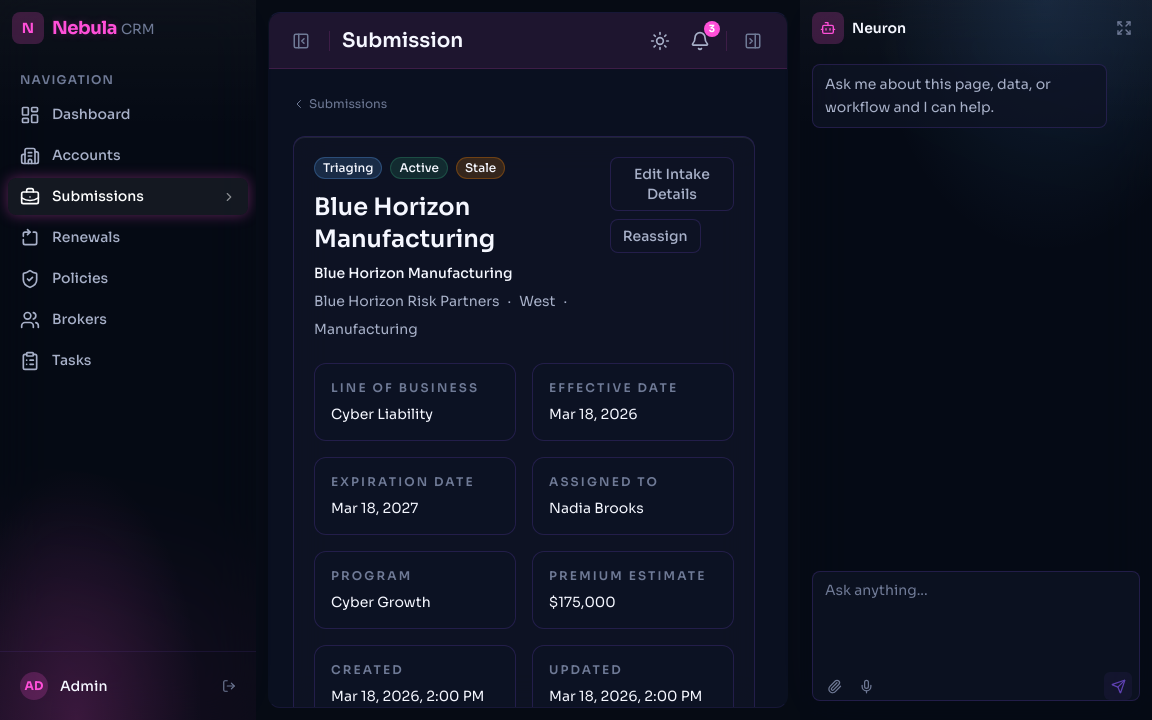
Test case: SubmissionDetailPage integration › supports reassignment against the shared submission state
Expected: the heading "Blue Horizon Manufacturing" is shown, 314,192 -> 495,254
Click the button "Reassign" at (655, 236), box 610,219 -> 700,253
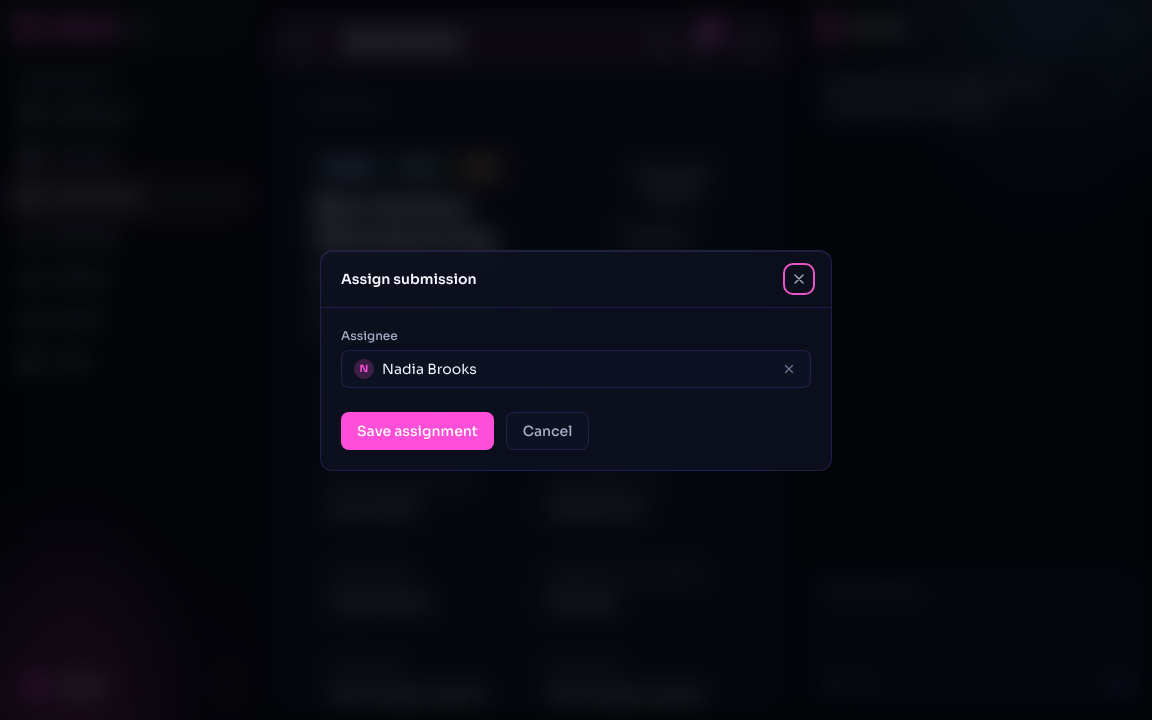
Expected: the dialog "Assign submission" is shown, 320,250 -> 832,470
Click the button named "Remove assignee Nadia Brooks" at (789, 368), box 780,360 -> 798,378
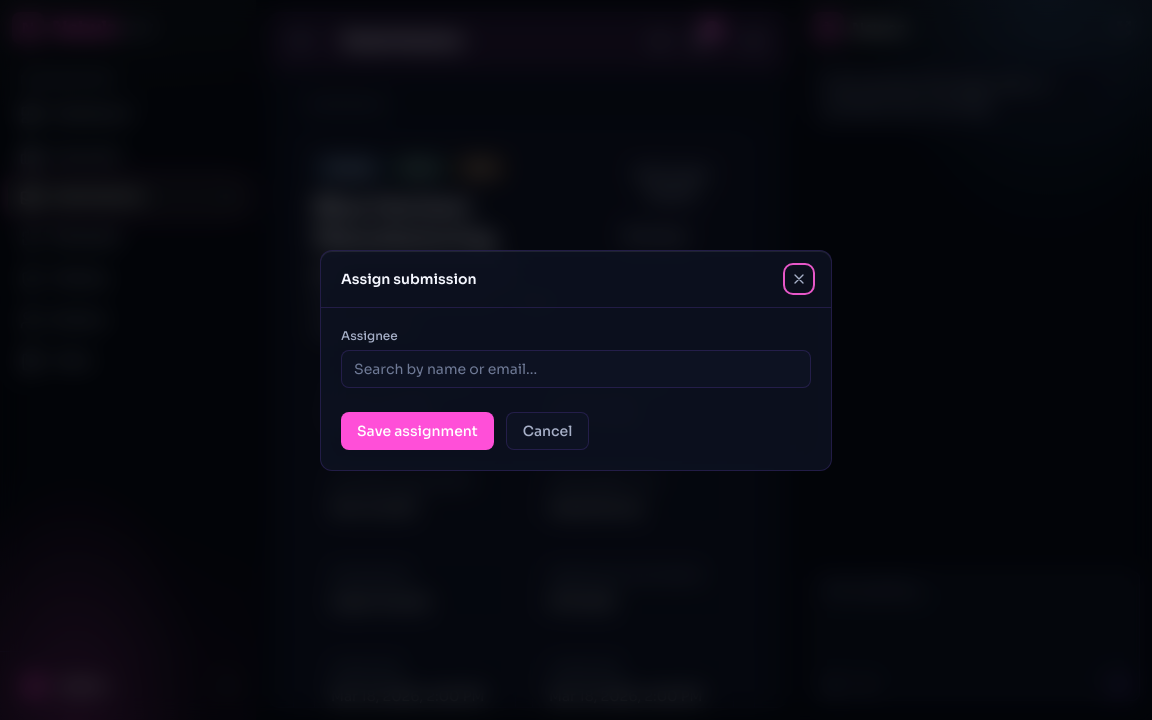
Type "alex" into the dropdown labelled "Assignee" at (576, 368), box 341,350 -> 811,388
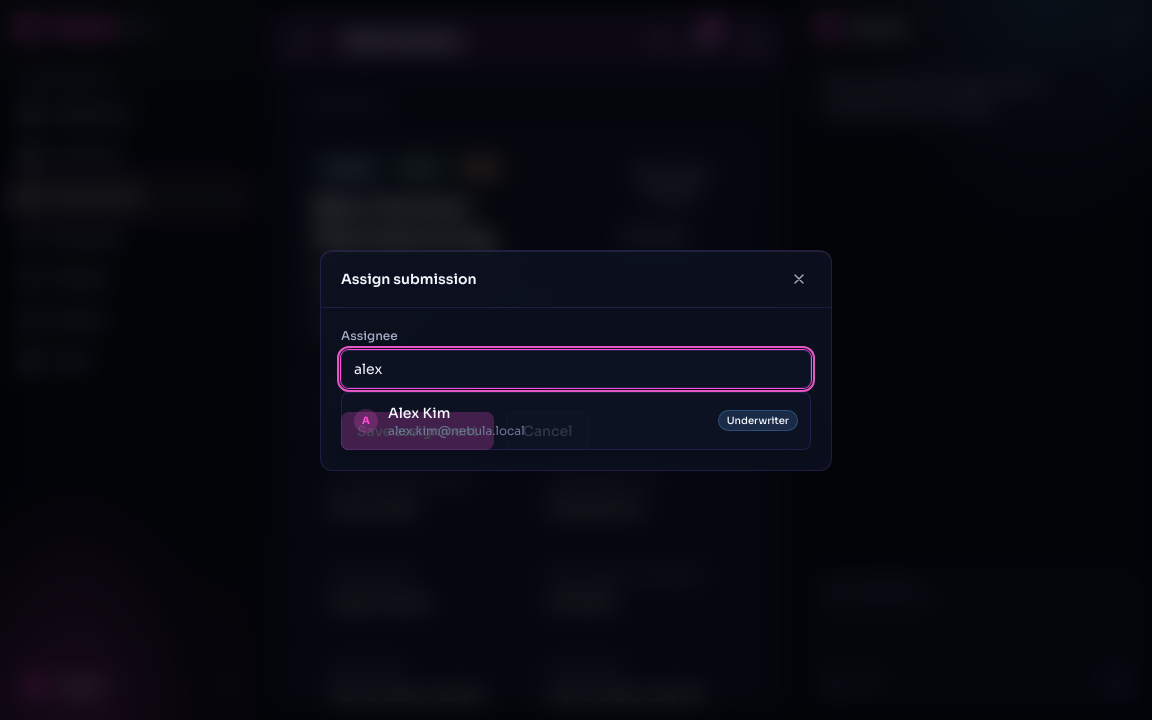
Click the text "Alex Kim" at (419, 412), box 388,404 -> 450,422
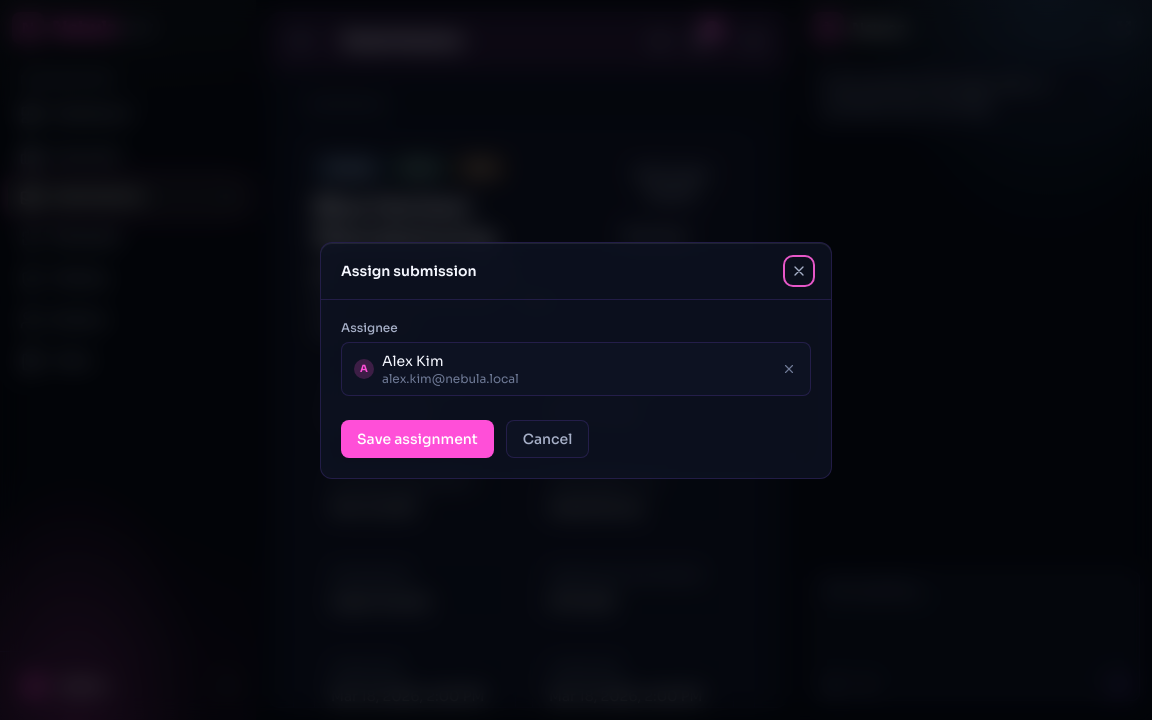
Click the button "Save assignment" at (417, 438), box 341,420 -> 494,458
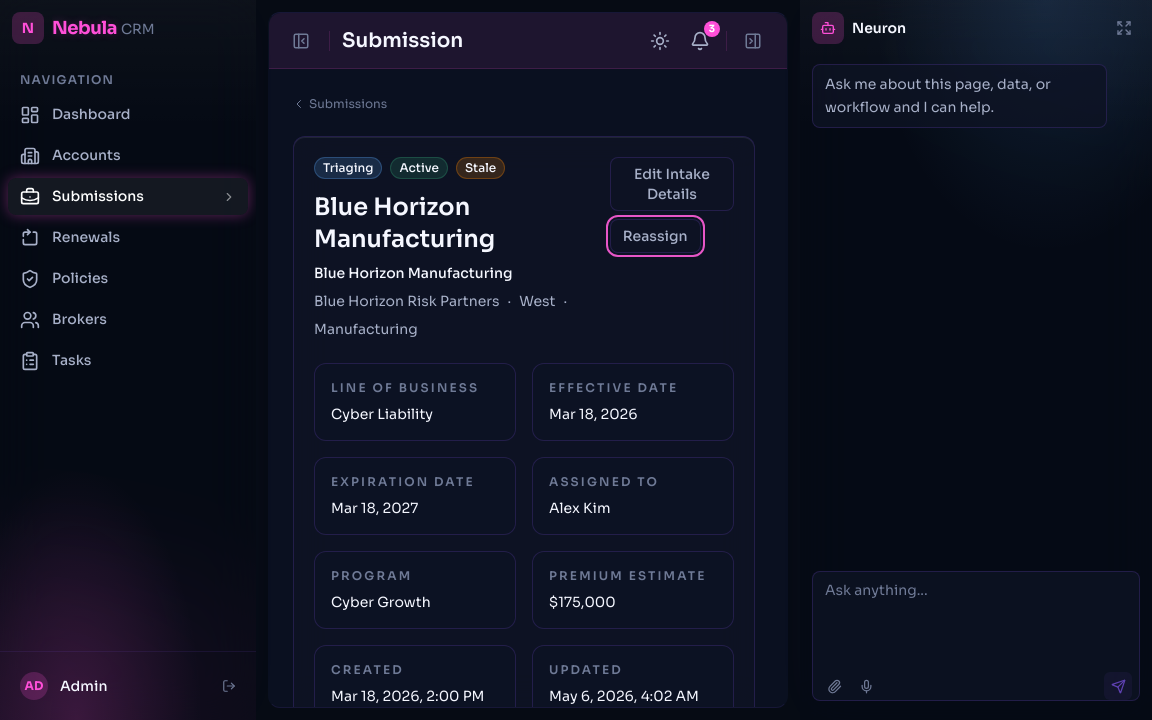
Expected: the heading "Assign submission" is gone
Expected: the text "Alex Kim" is shown, 549,499 -> 610,517
